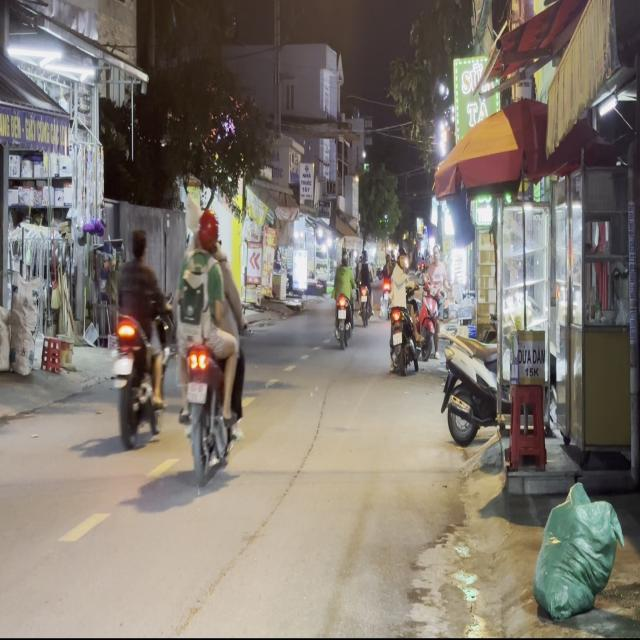helmet: (194, 208, 219, 254)
licenseplate: (172, 204, 247, 483), (110, 224, 168, 448)
motorcyclist: (129, 226, 147, 259)
nohelmet: (186, 381, 206, 402), (112, 356, 132, 374)
